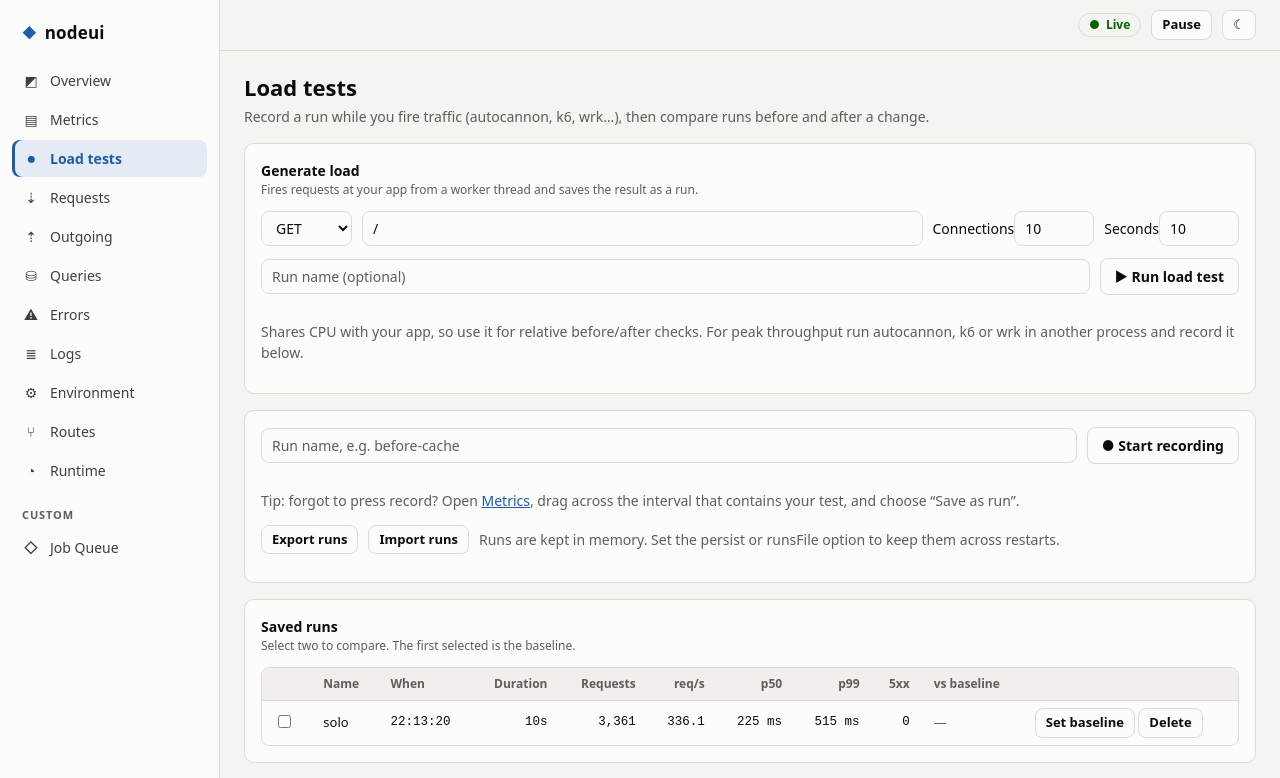
Load tests view › shows one run as a report
Click the checkbox named "Select solo". click: (284, 722)
box: [278, 715, 291, 728]
(page scrolled)
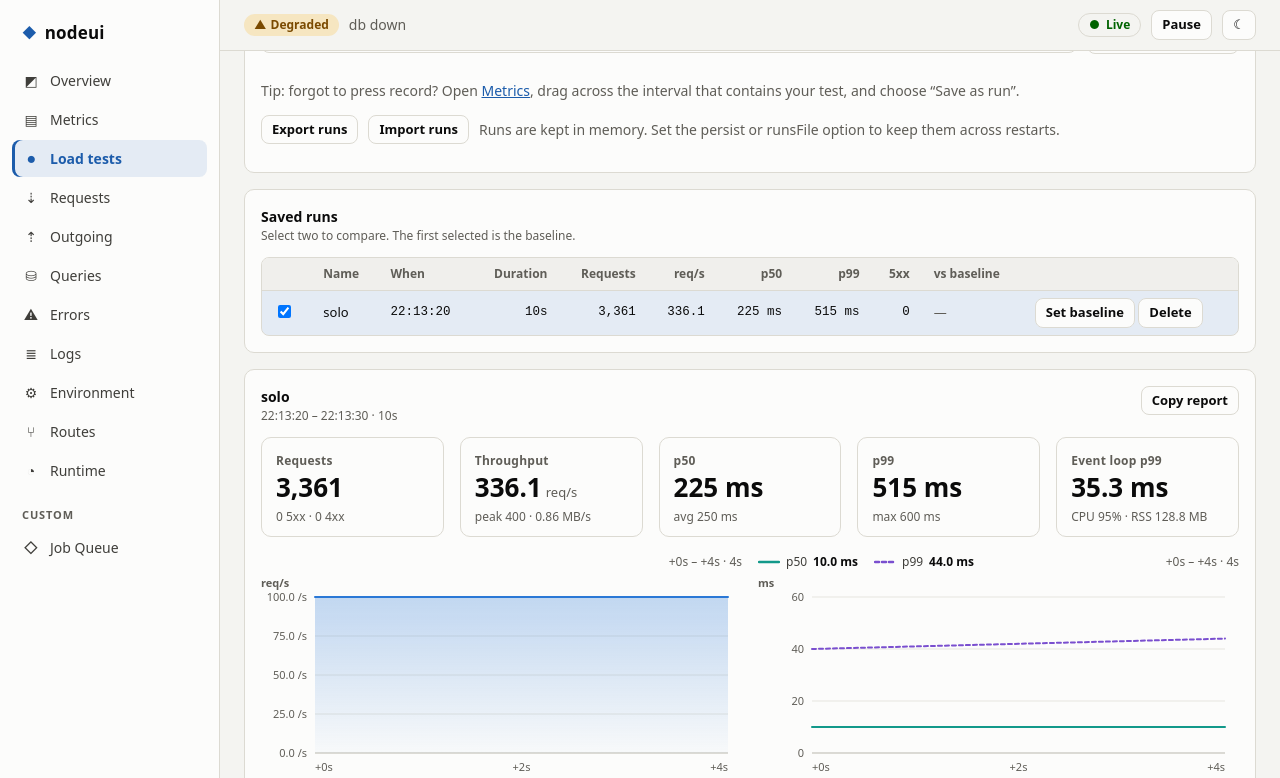
Result: the button "Copy report" is shown at [1141, 386, 1239, 415]
